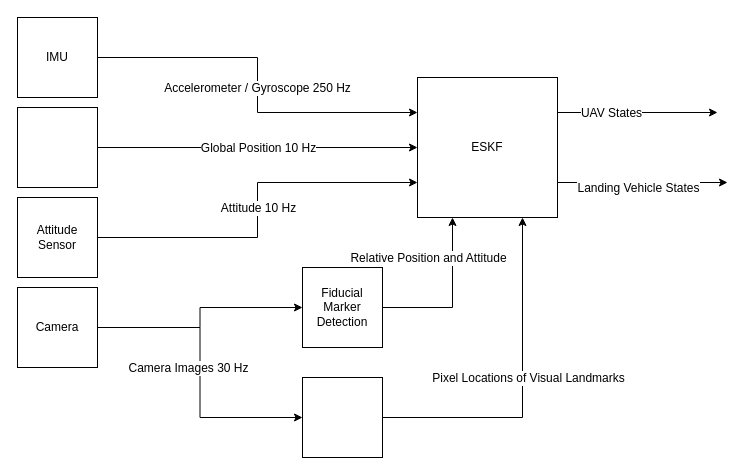
Some shapes in this 753 by 475 pixel diagram are drawn without their labels. Here are the shapes that lost their labels. From the top down, the centre of each, then its label:
point 57,147: Global Position Sensor
point 342,417: Feature Tracker
